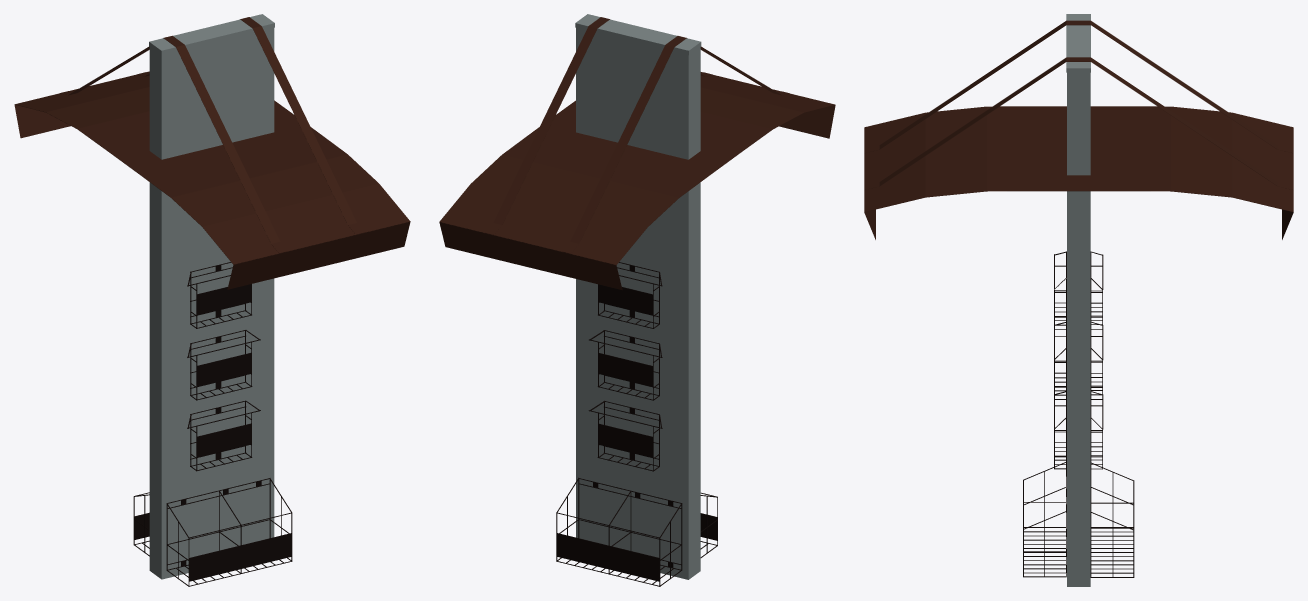
Rendered from magazine_rack.fbx.
3 views of the same model, side by side, from view 1: azimuth 30°, elevation 25°; view 2: azimuth 150°, elevation 25°; view 3: azimuth 270°, elevation 25° (orthographic). The views are drawn at different scales.
Visible parts, largest first — view 1: magazine_rack; view 2: magazine_rack; view 3: magazine_rack.
Part boxes in pixels (<box>): magazine_rack: <box>14,14,410,586</box>; magazine_rack: <box>439,14,835,586</box>; magazine_rack: <box>864,14,1293,586</box>.
Bounding box in the file's own units: 70 × 200 × 150.
